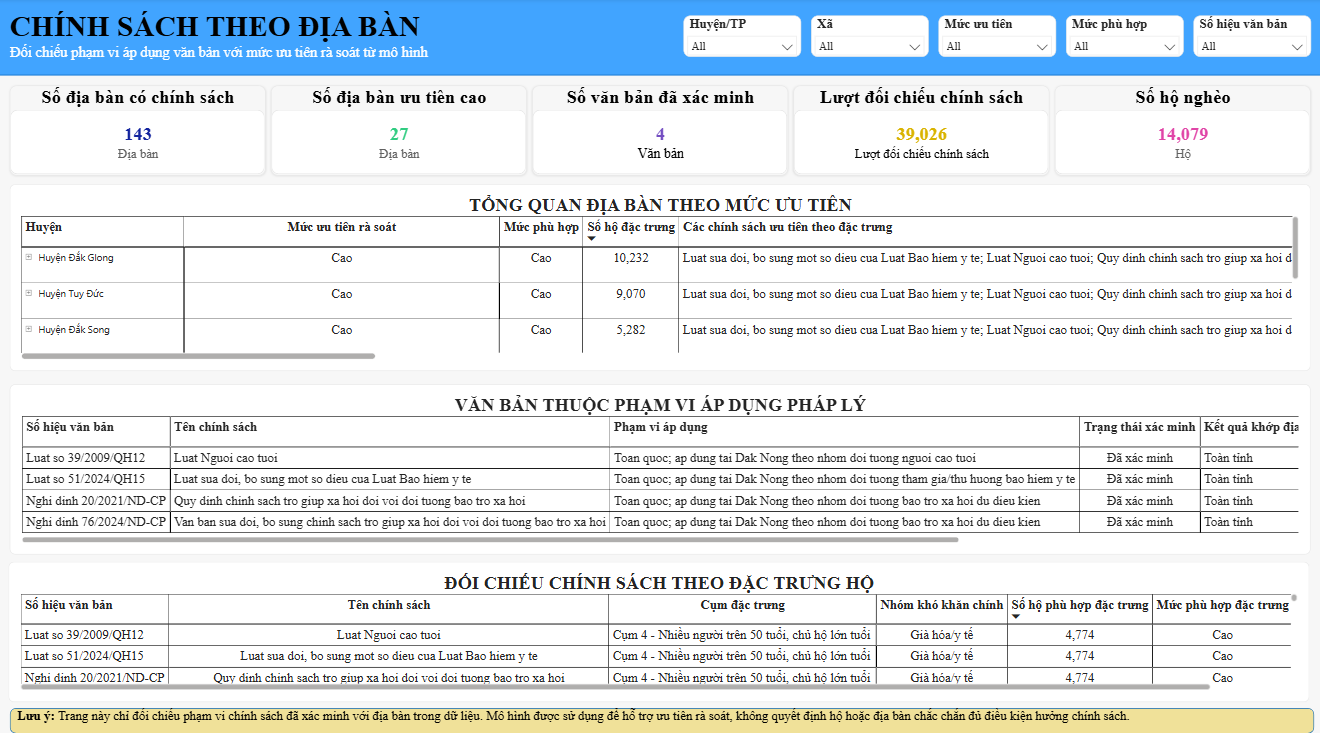

The page's visual inventory and layout, read from the dashboard file:
{"tool":"powerbi","page":{"name":"Chính sách địa bàn","canvas":[1920,1080],"ordinal":5},"visuals":[{"type":"shape","box":[0,0,1920,112],"z":0},{"type":"textbox","box":[20,17.1,1900,94.3],"z":1000},{"type":"cardVisual","title":"Số địa bàn có chính sách","fields":{"Data":["_Measures.Số địa bàn có chính sách"]},"box":[20,127.1,370,130],"z":2000},{"type":"cardVisual","title":"Số địa bàn ưu tiên cao","fields":{"Data":["_Measures.Số địa bàn ưu tiên cao"]},"box":[398.2,127.1,370,130],"z":3000},{"type":"cardVisual","title":"Số văn bản đã xác minh","fields":{"Data":["_Measures.Số văn bản đã xác minh"]},"box":[776.4,127.1,370,130],"z":4000},{"type":"cardVisual","title":"Lượt đối chiếu chính sách","fields":{"Data":["_Measures.Lượt đối chiếu chính sách"]},"box":[1154.6,127.1,370,130],"z":5000},{"type":"cardVisual","title":"Số hộ nghèo","fields":{"Data":["_Measures.Số hộ nghèo tại địa bàn chính sách"]},"box":[1532.9,127.1,370,130],"z":6000},{"type":"pivotTable","title":"TỔNG QUAN ĐỊA BÀN THEO MỨC ƯU TIÊN","fields":{"Rows":["DimPolicyArea.HUYEN","DimPolicyArea.XA"],"Values":["Min(policy_area_summary.MUC_UU_TIEN_RA_SOAT)","Min(policy_area_summary.MUC_PHU_HOP_DAC_TRUNG)","Sum(policy_area_summary.SO_HO_PHU_HOP_DAC_TRUNG)","Min(policy_area_summary.CAC_CHINH_SACH_UU_TIEN_THEO_DAC_TRUNG)","Min(policy_area_summary.NHOM_HO_PHU_HOP)","Min(policy_area_summary.DAC_TRUNG_HO_NOI_BAT)"]},"box":[19.5,270.5,1882.8,270.5],"z":7000},{"type":"tableEx","title":"VĂN BẢN THUỘC PHẠM VI ÁP DỤNG PHÁP LÝ","fields":{"Values":["policy_area_scope_validation.SO_HIEU_VAN_BAN","policy_area_scope_validation.TEN_CHINH_SACH","policy_area_scope_validation.PHAM_VI_AP_DUNG","policy_area_scope_validation.TRANG_THAI_XAC_MINH","policy_area_scope_validation.KET_QUA_KHOP_DIA_BAN","policy_area_scope_validation.CAN_CU_DIEU_KHOAN_HO_TRO"]},"box":[19.5,558.3,1882.8,246.7],"z":8000},{"type":"slicer","fields":{"Values":["DimPolicyArea.HUYEN"]},"box":[995.7,25.7,170,60],"z":9000},{"type":"slicer","fields":{"Values":["DimPolicyArea.XA"]},"box":[1180,25.7,170,60],"z":10000},{"type":"slicer","fields":{"Values":["policy_area_summary.MUC_UU_TIEN_RA_SOAT"]},"box":[1364.3,25.7,170,60],"z":11000},{"type":"slicer","fields":{"Values":["policy_area_scope_validation.SO_HIEU_VAN_BAN"]},"box":[1732.9,25.7,170,60],"z":12000},{"type":"shape","box":[20,1028.6,1888.6,37.1],"z":13000},{"type":"textbox","box":[30,1028.6,1872.9,37.1],"z":14000},{"type":"tableEx","title":"ĐỐI CHIẾU CHÍNH SÁCH THEO ĐẶC TRƯNG HỘ","fields":{"Values":["policy_area_feature_fit.SO_HIEU_VAN_BAN","policy_area_feature_fit.TEN_CHINH_SACH","policy_area_feature_fit.TEN_CUM","policy_area_feature_fit.NHOM_KHO_KHAN_CHINH","Sum(policy_area_feature_fit.SO_HO_PHU_HOP_DAC_TRUNG)","policy_area_feature_fit.MUC_PHU_HOP_DAC_TRUNG","policy_area_feature_fit.CAN_CU_DIEU_KHOAN_HO_TRO"]},"box":[18.6,815.7,1882.9,202.9],"z":15000},{"type":"slicer","fields":{"Values":["policy_area_feature_fit.MUC_PHU_HOP_DAC_TRUNG"]},"box":[1548.6,25.7,170,60],"z":16000}]}

Visuals, with their boxes in screenshot pixels (x1, y1, x2, y2), scaled from the page's 1920x1080 canvas onto the 1320x733 screenshot:
shape: (0,0,1319,76)
textbox: (14,12,1319,76)
"Số địa bàn có chính sách" cardVisual: (14,86,268,174)
"Số địa bàn ưu tiên cao" cardVisual: (274,86,528,174)
"Số văn bản đã xác minh" cardVisual: (534,86,788,174)
"Lượt đối chiếu chính sách" cardVisual: (794,86,1048,174)
"Số hộ nghèo" cardVisual: (1054,86,1308,174)
"TỔNG QUAN ĐỊA BÀN THEO MỨC ƯU TIÊN" pivotTable: (13,184,1308,367)
"VĂN BẢN THUỘC PHẠM VI ÁP DỤNG PHÁP LÝ" tableEx: (13,379,1308,546)
slicer - DimPolicyArea.HUYEN: (685,17,801,58)
slicer - DimPolicyArea.XA: (811,17,928,58)
slicer - policy_area_summary.MUC_UU_TIEN_RA_SOAT: (938,17,1055,58)
slicer - policy_area_scope_validation.SO_HIEU_VAN_BAN: (1191,17,1308,58)
shape: (14,698,1312,723)
textbox: (21,698,1308,723)
"ĐỐI CHIẾU CHÍNH SÁCH THEO ĐẶC TRƯNG HỘ" tableEx: (13,554,1307,691)
slicer - policy_area_feature_fit.MUC_PHU_HOP_DAC_TRUNG: (1065,17,1182,58)
